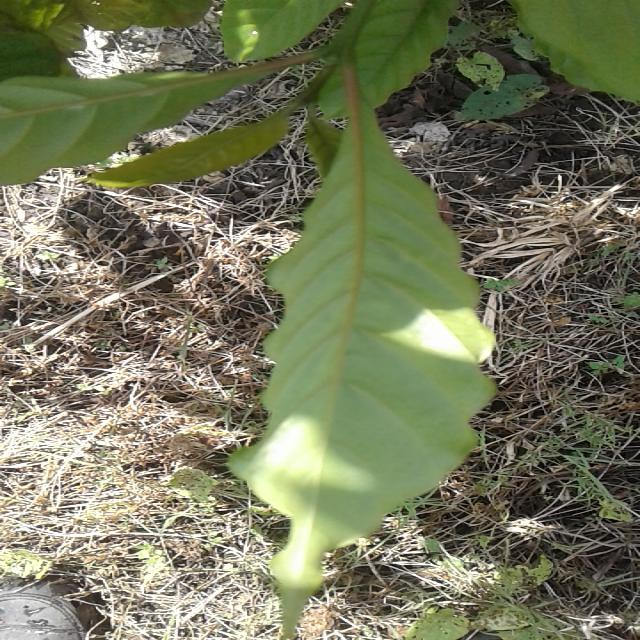Sanas: (226, 36, 497, 640)
